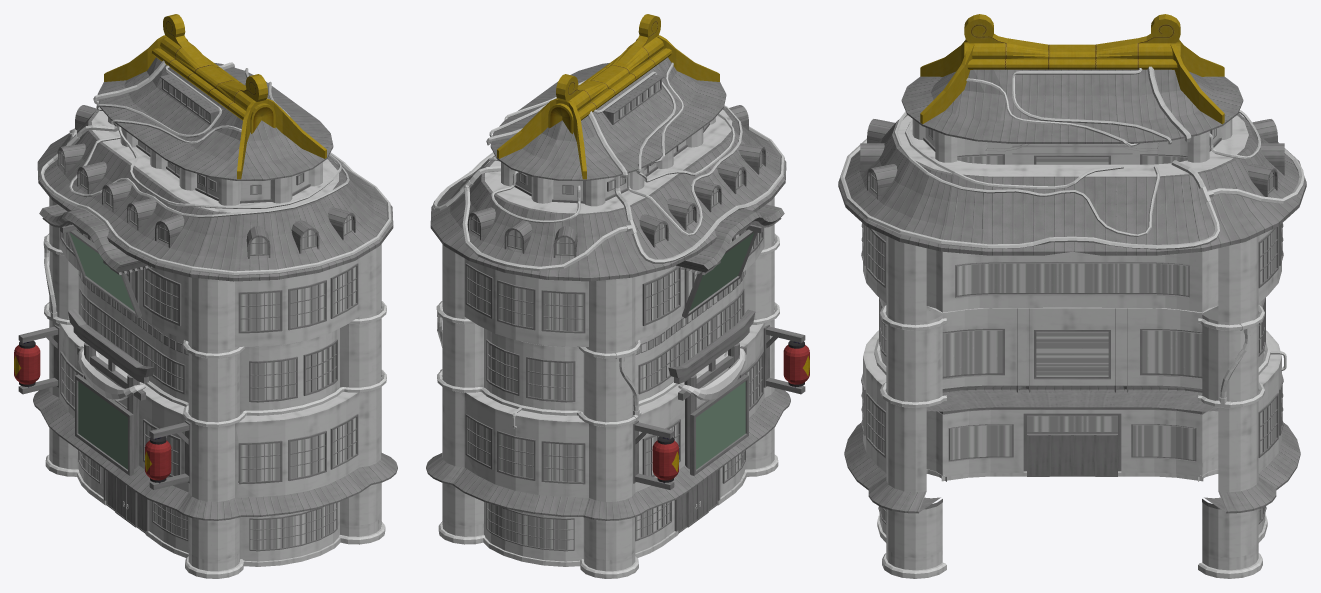
File: REDUCTION_SM_ENV_KNVLLG_CommonBuilding_E_1.mo.fbx
The picture shows the model from 3 angles, left to right: view 1: azimuth 30°, elevation 25°; view 2: azimuth 150°, elevation 25°; view 3: azimuth 270°, elevation 25°; orthographic projection. The views are drawn at different scales.
Visible parts, largest first — view 1: REDUCTION_SM_ENV_KNVLLG_CommonBuilding_E_1.mo; view 2: REDUCTION_SM_ENV_KNVLLG_CommonBuilding_E_1.mo; view 3: REDUCTION_SM_ENV_KNVLLG_CommonBuilding_E_1.mo.
Boxes of the visible parts, x1,y1,x2,y2 form: REDUCTION_SM_ENV_KNVLLG_CommonBuilding_E_1.mo: (14, 14, 397, 578); REDUCTION_SM_ENV_KNVLLG_CommonBuilding_E_1.mo: (426, 14, 809, 578); REDUCTION_SM_ENV_KNVLLG_CommonBuilding_E_1.mo: (838, 14, 1306, 578).
Size of the model in its own units: 22 by 36 by 30.
